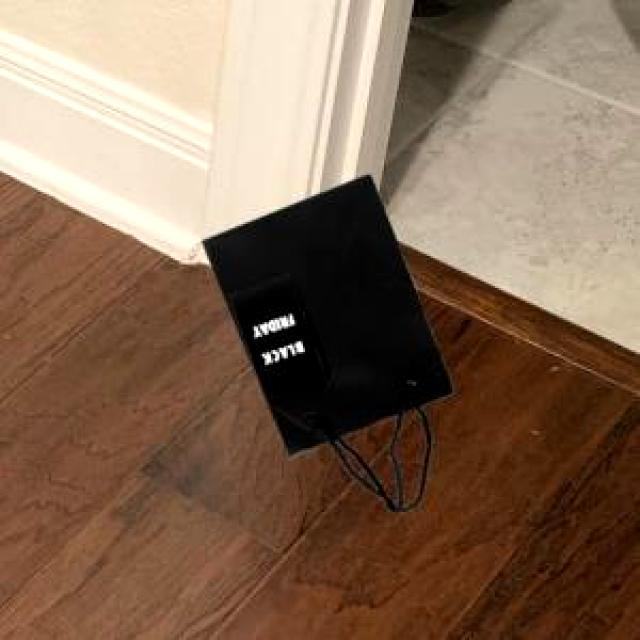Paper_Bag: (199, 172, 452, 511)
